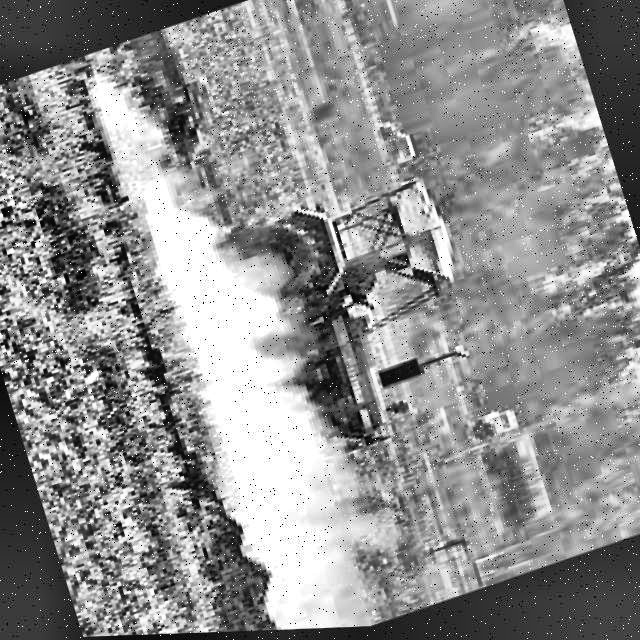Smoke: (90, 45, 382, 637)
